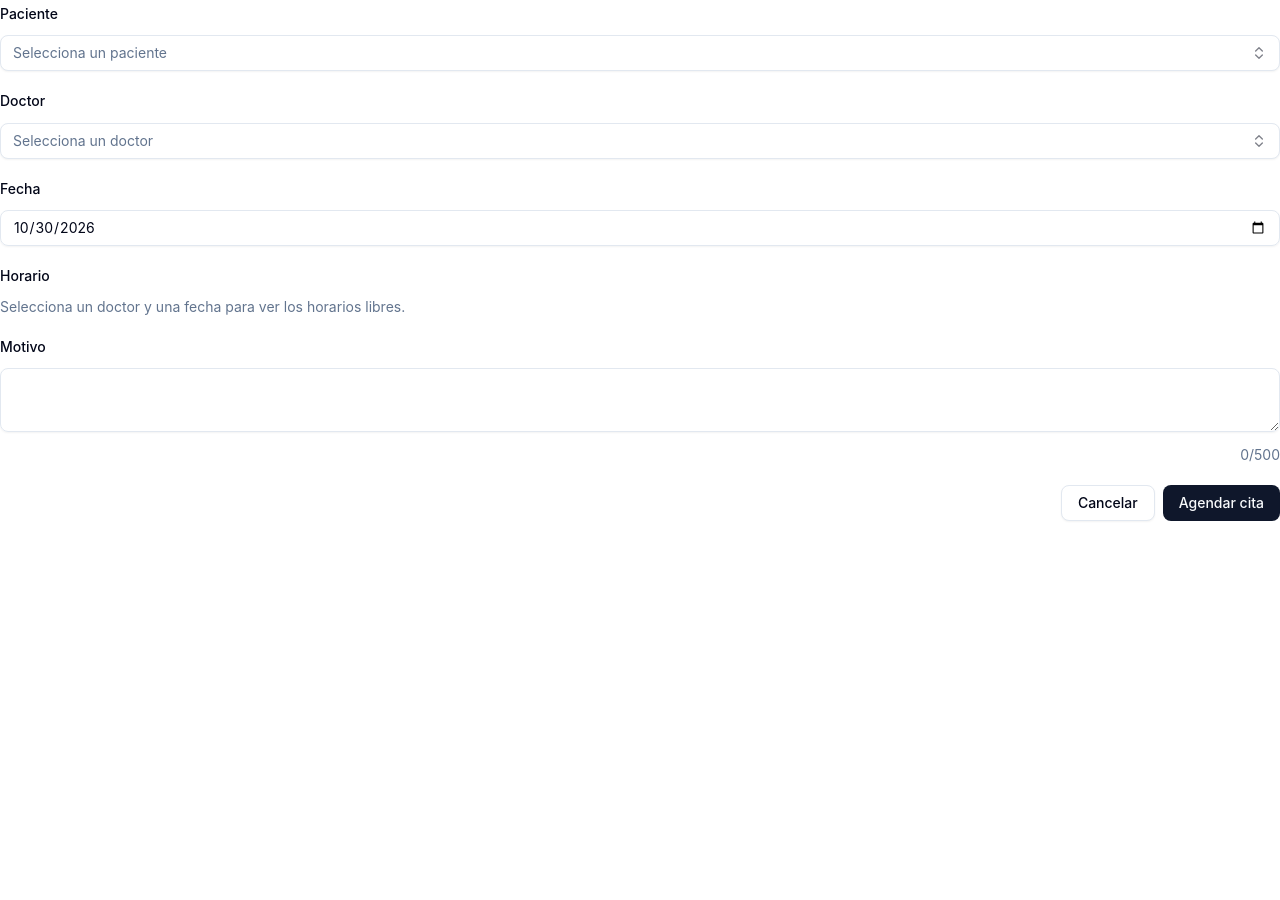
Scenario: AppointmentForm › tells when the doctor has no free slots that day
What coordinates should you click on to do the following:
click the dropdown labelled "doctor"
I would click on:
 (83, 140)
Its box is [0,122,1279,158].
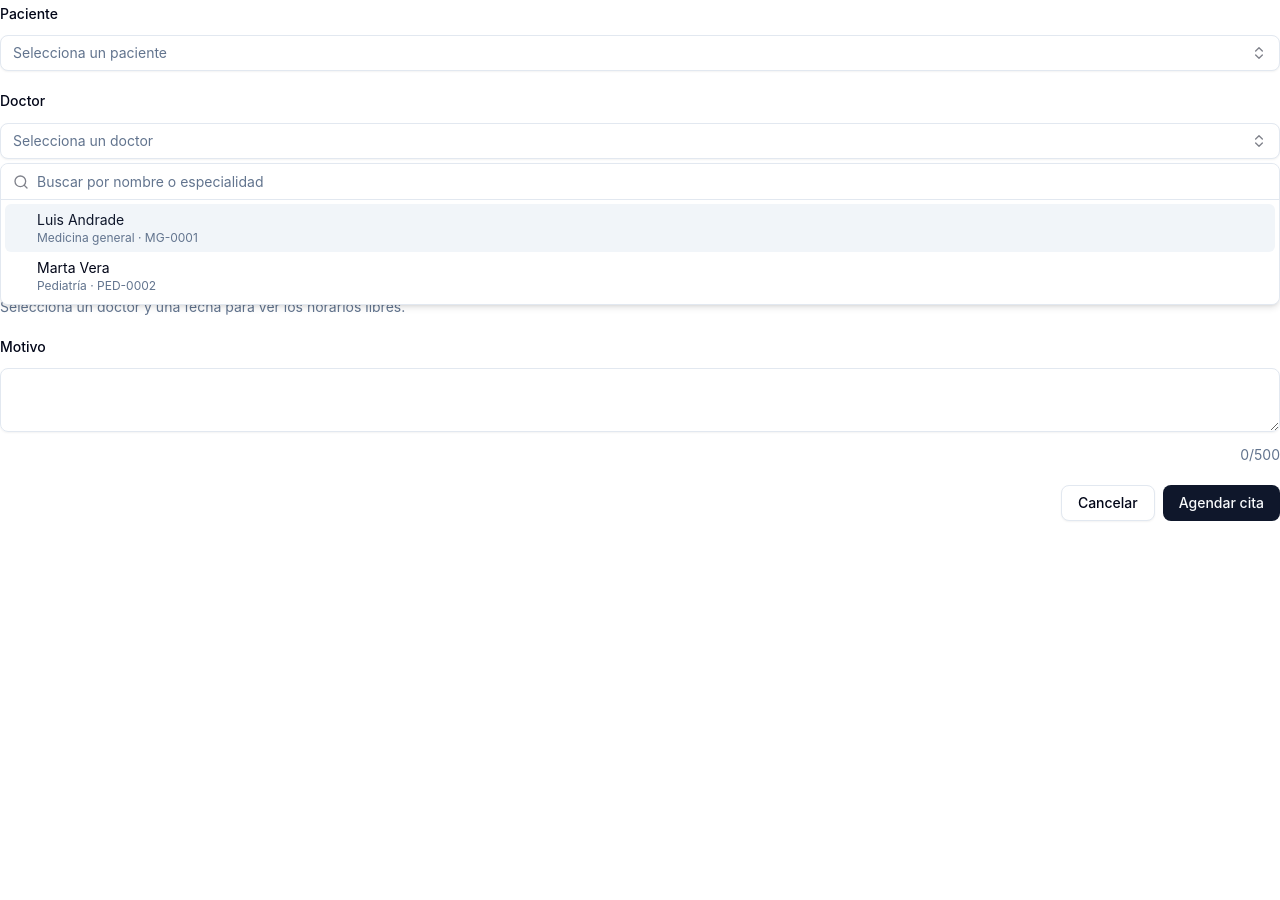
What coordinates should you click on to do the following:
click the option "Luis Andrade Medicina general · MG-0001"
I would click on:
 (81, 220)
Its box is [5,204,1275,252].
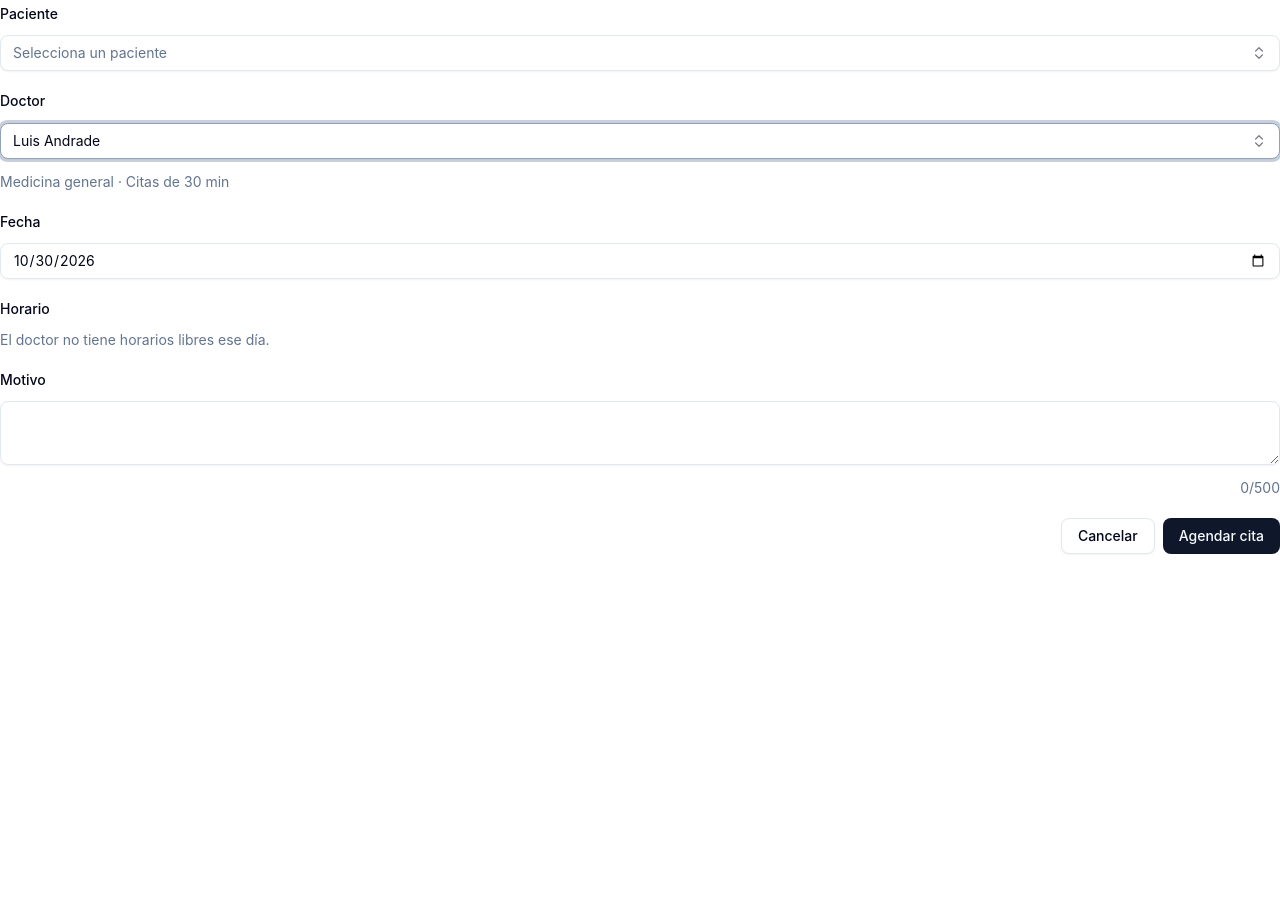
Now the text "El doctor no tiene horarios libres ese día." is shown, box [0,331,270,348]
